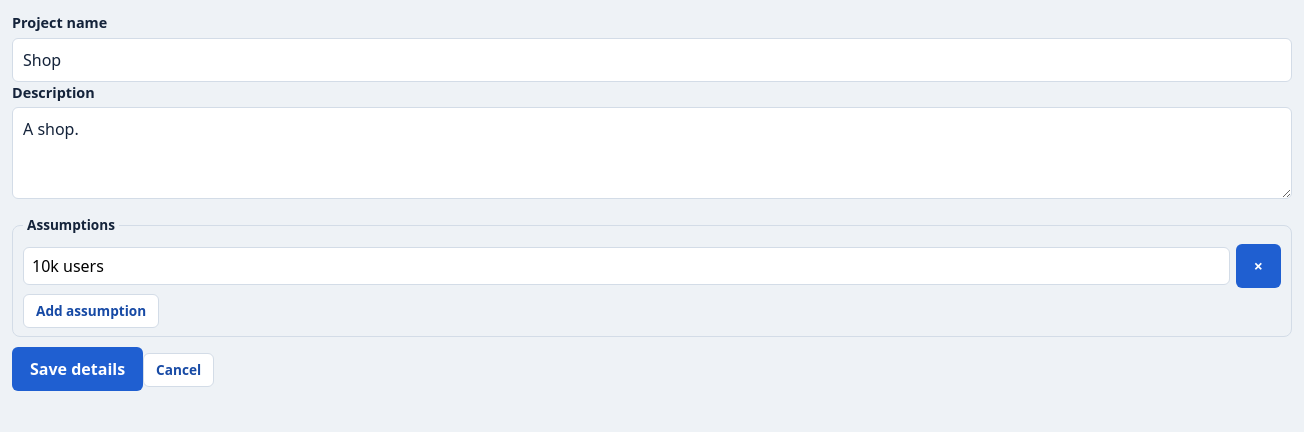
Scenario: DetailsEditor › needs a project name
Clear the field labelled "Project name" at (652, 60), box top-left (12, 38), bottom-right (1292, 82)
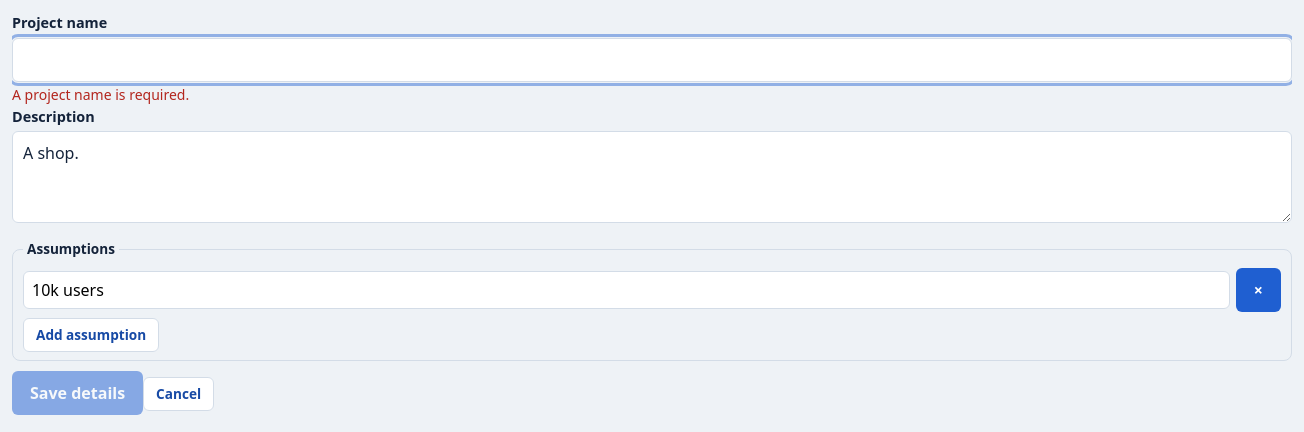
Now the button "Save details" is disabled, box top-left (12, 371), bottom-right (143, 415)
Now the text "A project name is required." is shown, box top-left (12, 85), bottom-right (189, 104)
